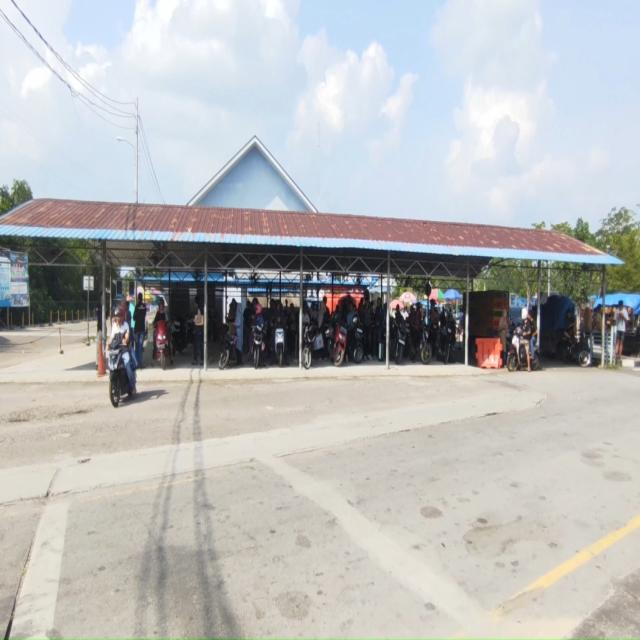Golongan II: (108, 343, 136, 408), (506, 325, 540, 372), (556, 335, 590, 367), (327, 321, 347, 366), (438, 319, 457, 364), (154, 320, 171, 370), (348, 316, 364, 364), (302, 322, 318, 370), (219, 330, 237, 370), (250, 321, 265, 369), (171, 316, 188, 355), (394, 319, 408, 365), (419, 322, 433, 364), (274, 327, 286, 367)
